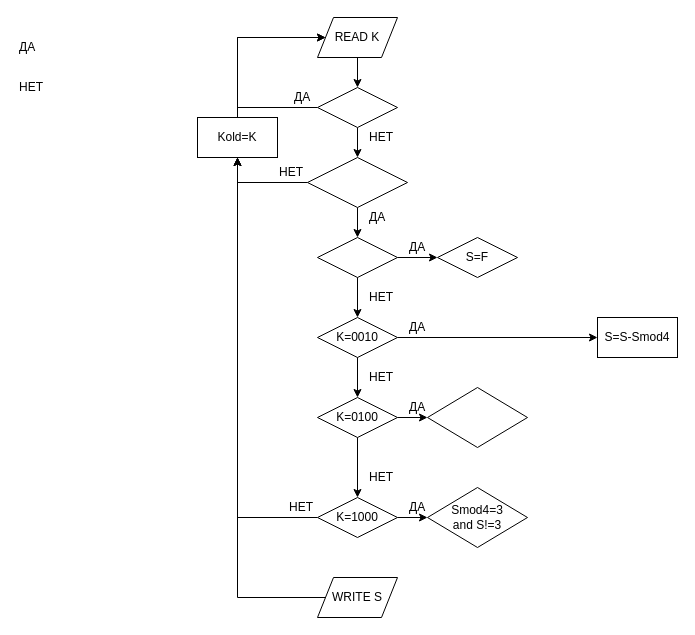
The diagram is 695 pixels wide and 635 high, and some of its shapes have lost their labels. The box of each missing label's shape, as (x1, y1, x2, y2) in pixels:
K=0001: (316, 236, 398, 278)
K=Kold: (316, 86, 398, 128)
Kold=0 and K!=0: (306, 156, 408, 208)
Smod4=0 and S!=C: (426, 386, 528, 448)
